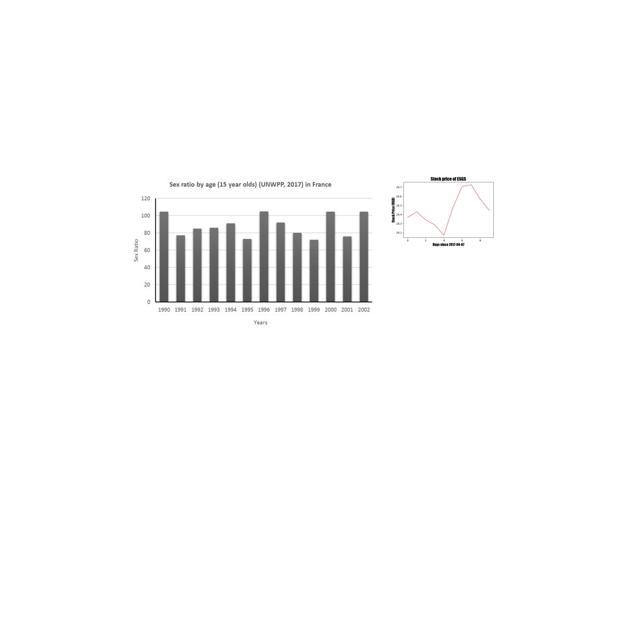Graph: (124, 175, 387, 333), (389, 166, 505, 253)
